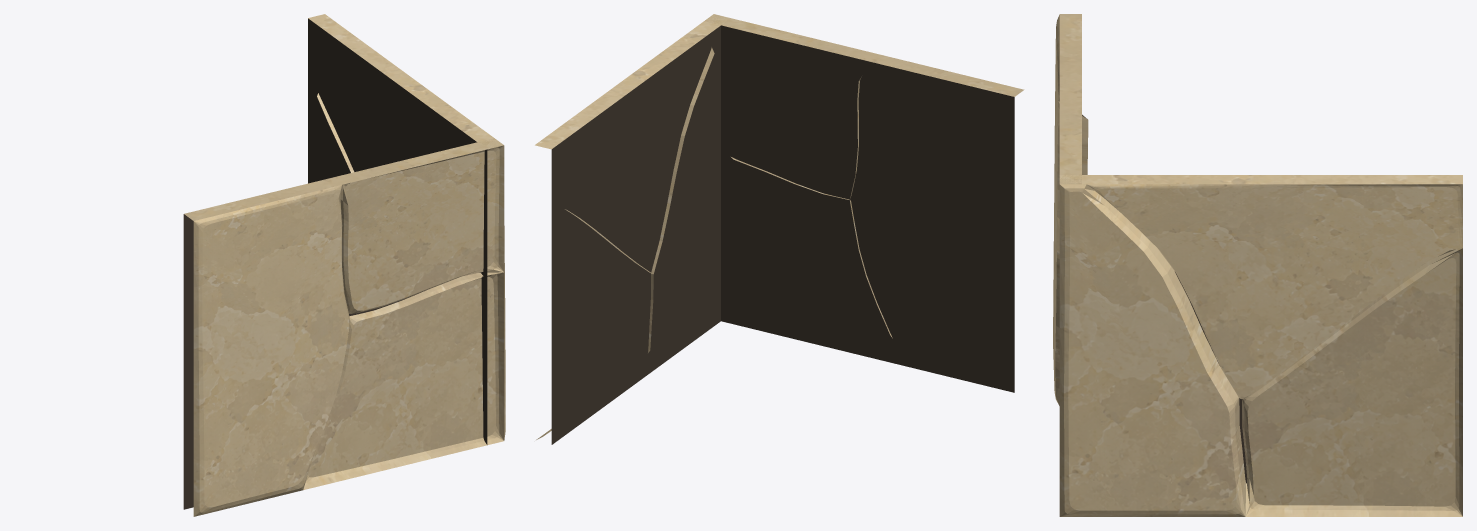
Rendered from ground_corner_02.glb.
3 views of the same model, side by side, from view 1: azimuth 30°, elevation 25°; view 2: azimuth 150°, elevation 25°; view 3: azimuth 270°, elevation 25° (orthographic). The views are drawn at different scales.
Visible parts, largest first — view 1: GroundCorner02_Body; view 2: GroundCorner02_Body; view 3: GroundCorner02_Body.
Boxes of the visible parts, box(x1,y1,x2,y2) form: GroundCorner02_Body: box(183, 14, 505, 516); GroundCorner02_Body: box(535, 14, 1024, 444); GroundCorner02_Body: box(1053, 14, 1462, 516).
Bounding box in the file's own units: 1.02 × 0.91 × 1.02.
8 materials, 7 textured.
